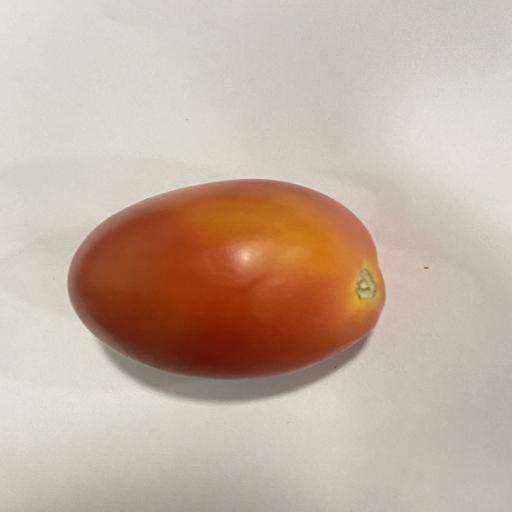ripe: (68, 179, 385, 378)
